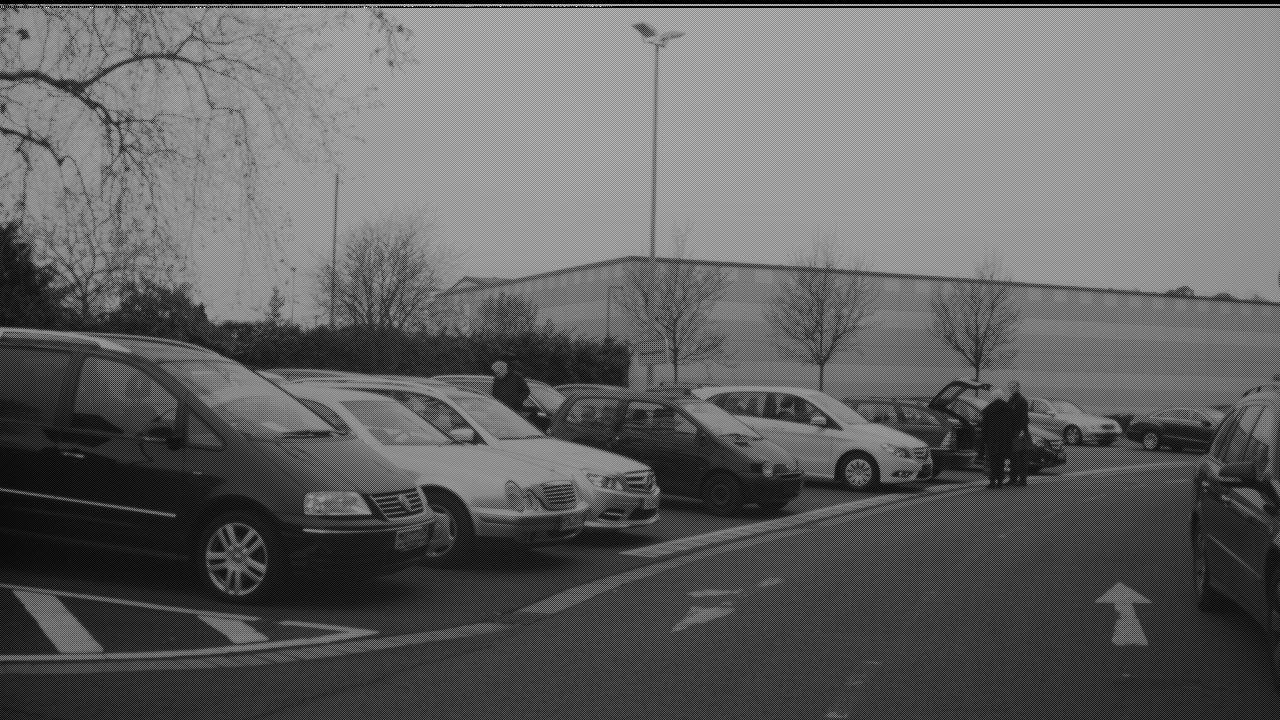pole: (644, 40, 659, 377)
